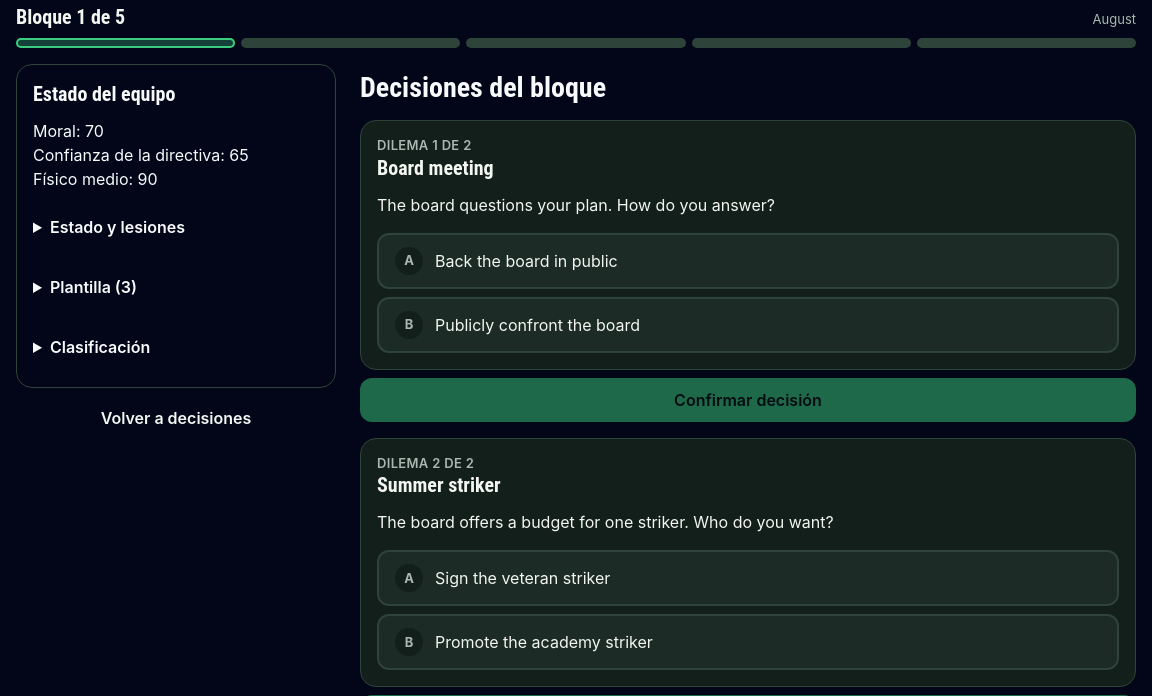
Scenario: RunLoop › shows its own message and reloads the run when the API rejects a decision (422)
The image size is (1152, 696).
Expected: the heading "Board meeting" is shown, [377,156,494,180]
Click the button "A Back the board in public" at {"x": 526, "y": 261}, box [377,233,1119,289]
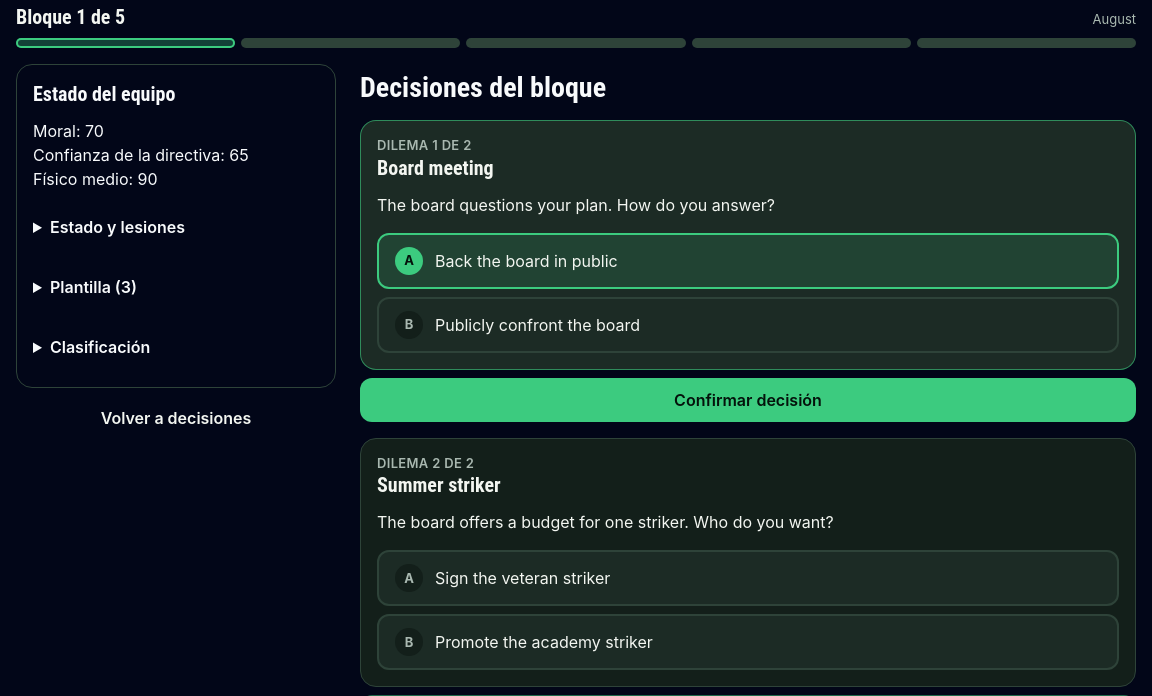
Click the button with aria-label "Confirmar: Board meeting" at {"x": 748, "y": 400}, box [360,378,1136,422]
(page scrolled)
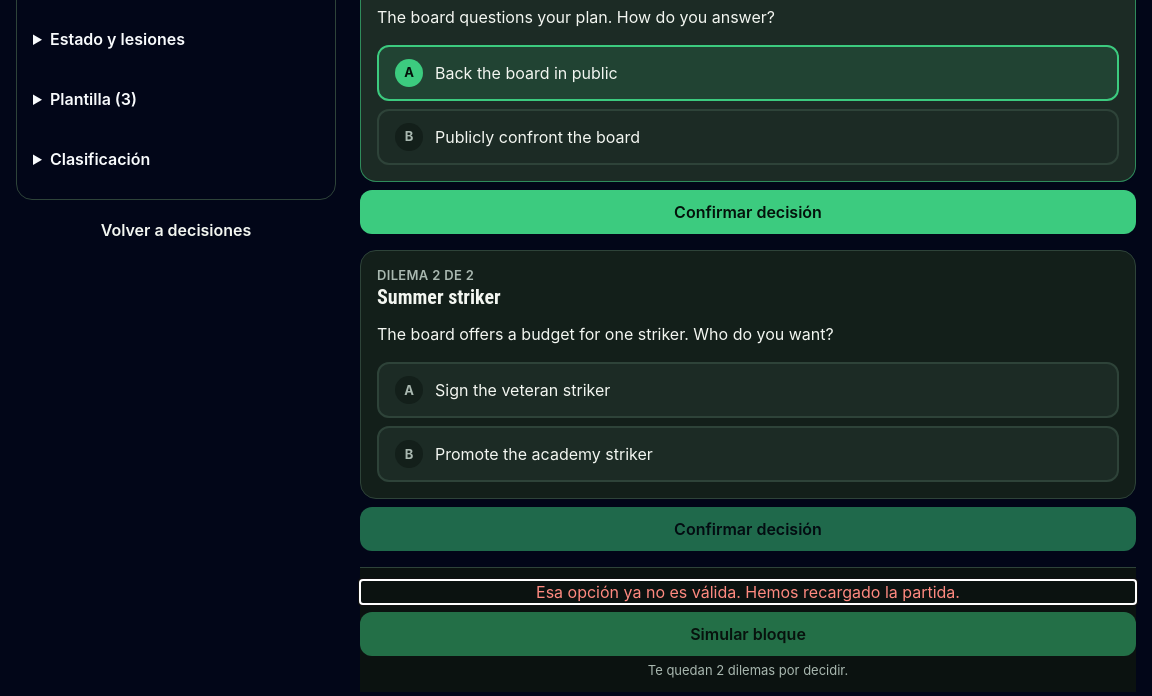
Expected: the message reads "Esa opción ya no es válida. Hemos recargado la partida.", [536,582,960,602]
